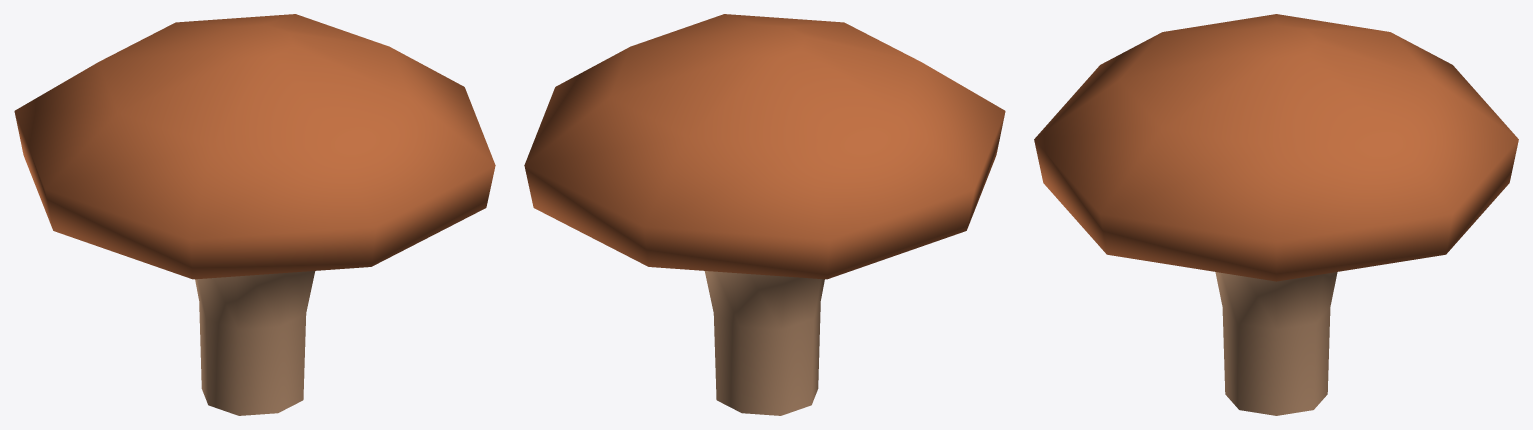
Rendered from Mashroom_01.fbx.
3 renders of one model, left to right at view 1: azimuth 30°, elevation 25°; view 2: azimuth 150°, elevation 25°; view 3: azimuth 270°, elevation 25°, orthographic.
Visible parts, largest first — view 1: Mashroom_01; view 2: Mashroom_01; view 3: Mashroom_01.
Boxes of the visible parts, x1,y1,x2,y2 form: Mashroom_01: [14, 14, 495, 415]; Mashroom_01: [524, 14, 1005, 415]; Mashroom_01: [1034, 14, 1518, 415].
Bounding box in the file's own units: 28.79 × 23.12 × 28.79.
